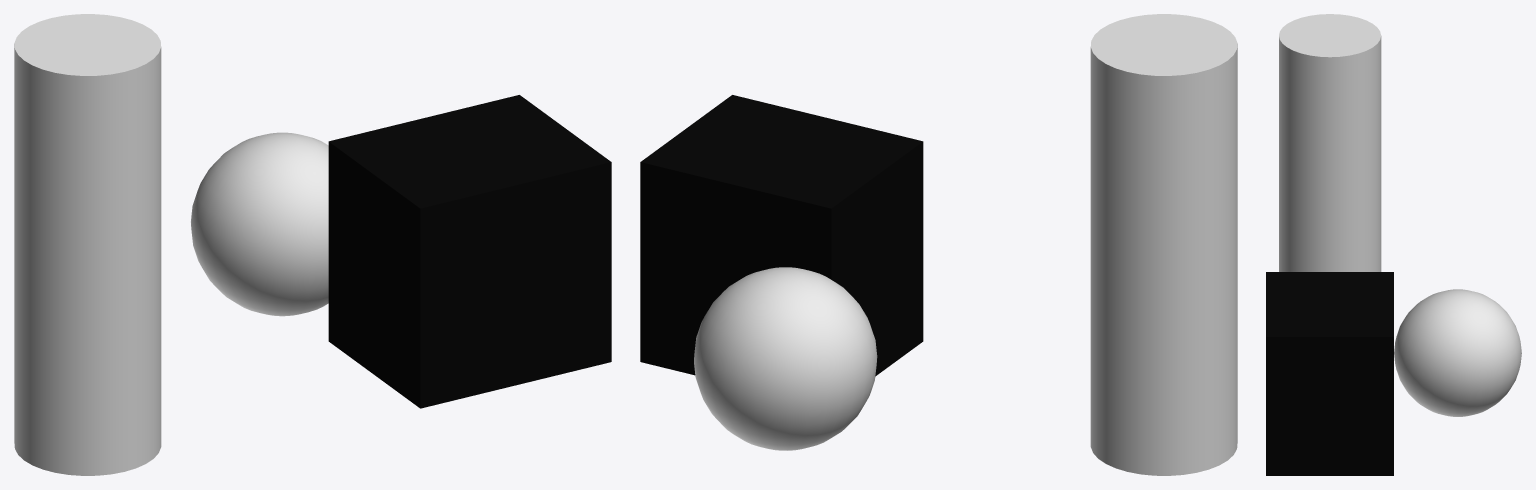
File: fixture3.glb
The picture shows the model from 3 angles, left to right: view 1: azimuth 30°, elevation 25°; view 2: azimuth 150°, elevation 25°; view 3: azimuth 270°, elevation 25°; orthographic projection. The views are drawn at different scales.
Parts seen in each view (by area): view 1: FIX3_PAINT_HOUSING, FIX3_METAL_SHAFT, FIX3_PLASTIC_KNOB; view 2: FIX3_METAL_SHAFT, FIX3_PAINT_HOUSING, FIX3_PLASTIC_KNOB; view 3: FIX3_PAINT_HOUSING, FIX3_METAL_SHAFT, FIX3_PLASTIC_KNOB.
Part boxes in pixels (x1,y1,x2,y2): FIX3_PAINT_HOUSING: [328, 95, 611, 408]; FIX3_METAL_SHAFT: [14, 14, 161, 475]; FIX3_PLASTIC_KNOB: [191, 132, 328, 316]; FIX3_METAL_SHAFT: [1090, 14, 1237, 475]; FIX3_PAINT_HOUSING: [640, 95, 923, 376]; FIX3_PLASTIC_KNOB: [694, 267, 877, 450]; FIX3_PAINT_HOUSING: [1266, 272, 1393, 475]; FIX3_METAL_SHAFT: [1279, 14, 1381, 271]; FIX3_PLASTIC_KNOB: [1394, 289, 1521, 416].
Bounding box in the file's own units: 0.17 × 0.12 × 0.1.
3 materials, 1 textured.
